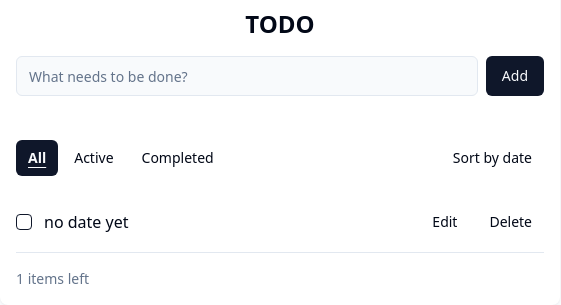
Scenario: R9 — edit-mode-only set/clear due date affordance › entering edit mode reveals the date input alongside the text field
The width and height of the screenshot is (561, 305).
Expected: the text "no date yet" is shown, [44,211,128,233]
What coordinates should you click on to do the following:
click the button "Edit"
I would click on:
 (445, 222)
Its box is [420,204,470,240].
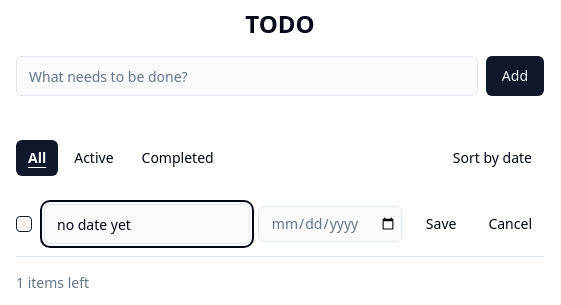
Expected: the date field named "Due date" is shown, [258,206,402,242]
